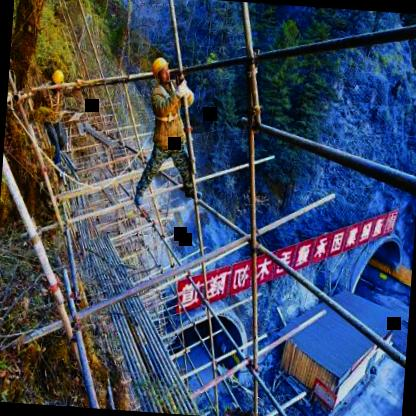helmet: (149, 56, 173, 88), (50, 69, 66, 95)
